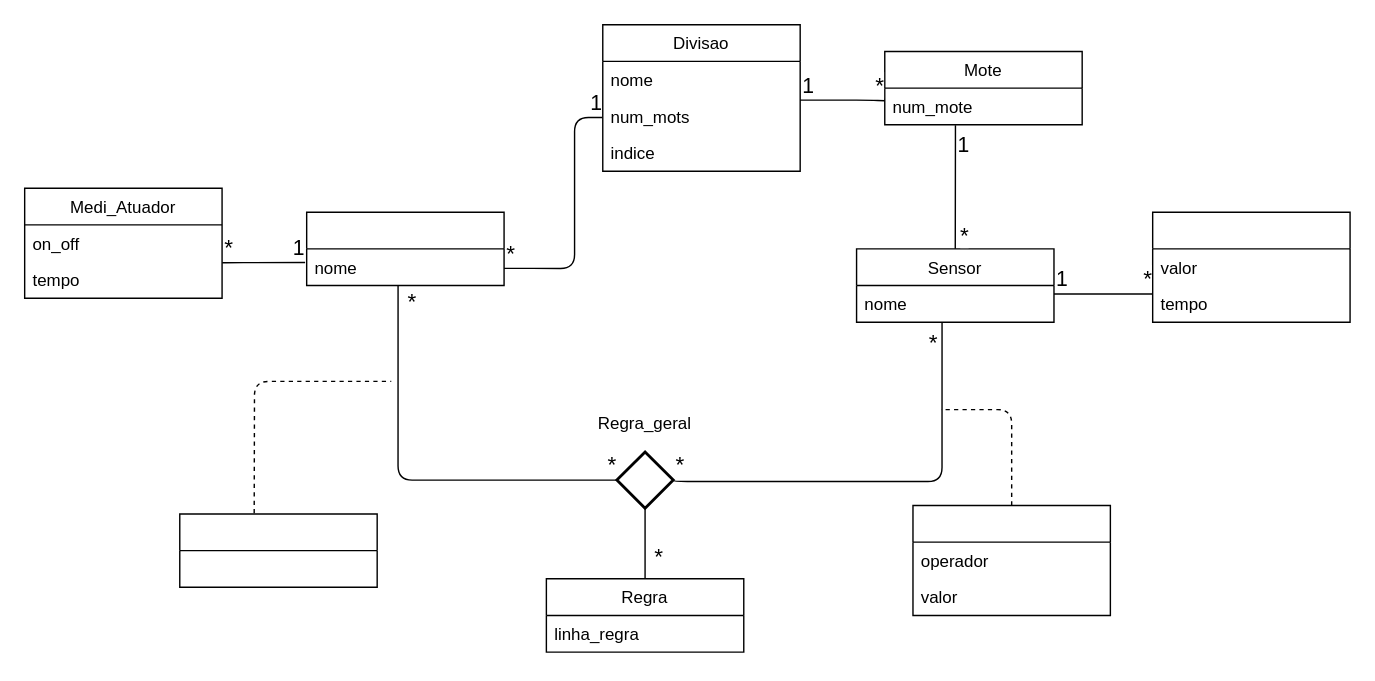
Image size: 1375x681. Some labels were removed from this diagram. Each missing label, with the box of its shape:
acao: (178, 513, 377, 587)
Atuador: (305, 211, 504, 286)
Medi_Sensor: (1151, 211, 1350, 322)
